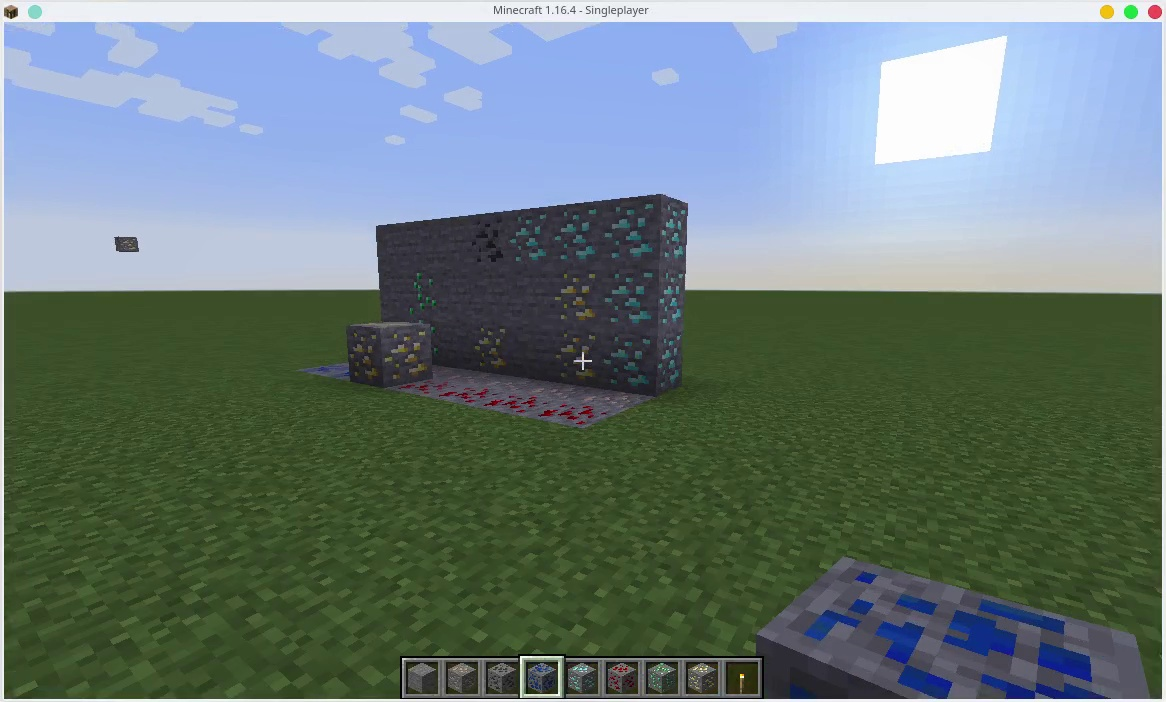gold: (350, 320, 435, 384), (546, 328, 602, 384), (550, 272, 606, 321), (469, 330, 509, 364), (684, 663, 716, 695)
